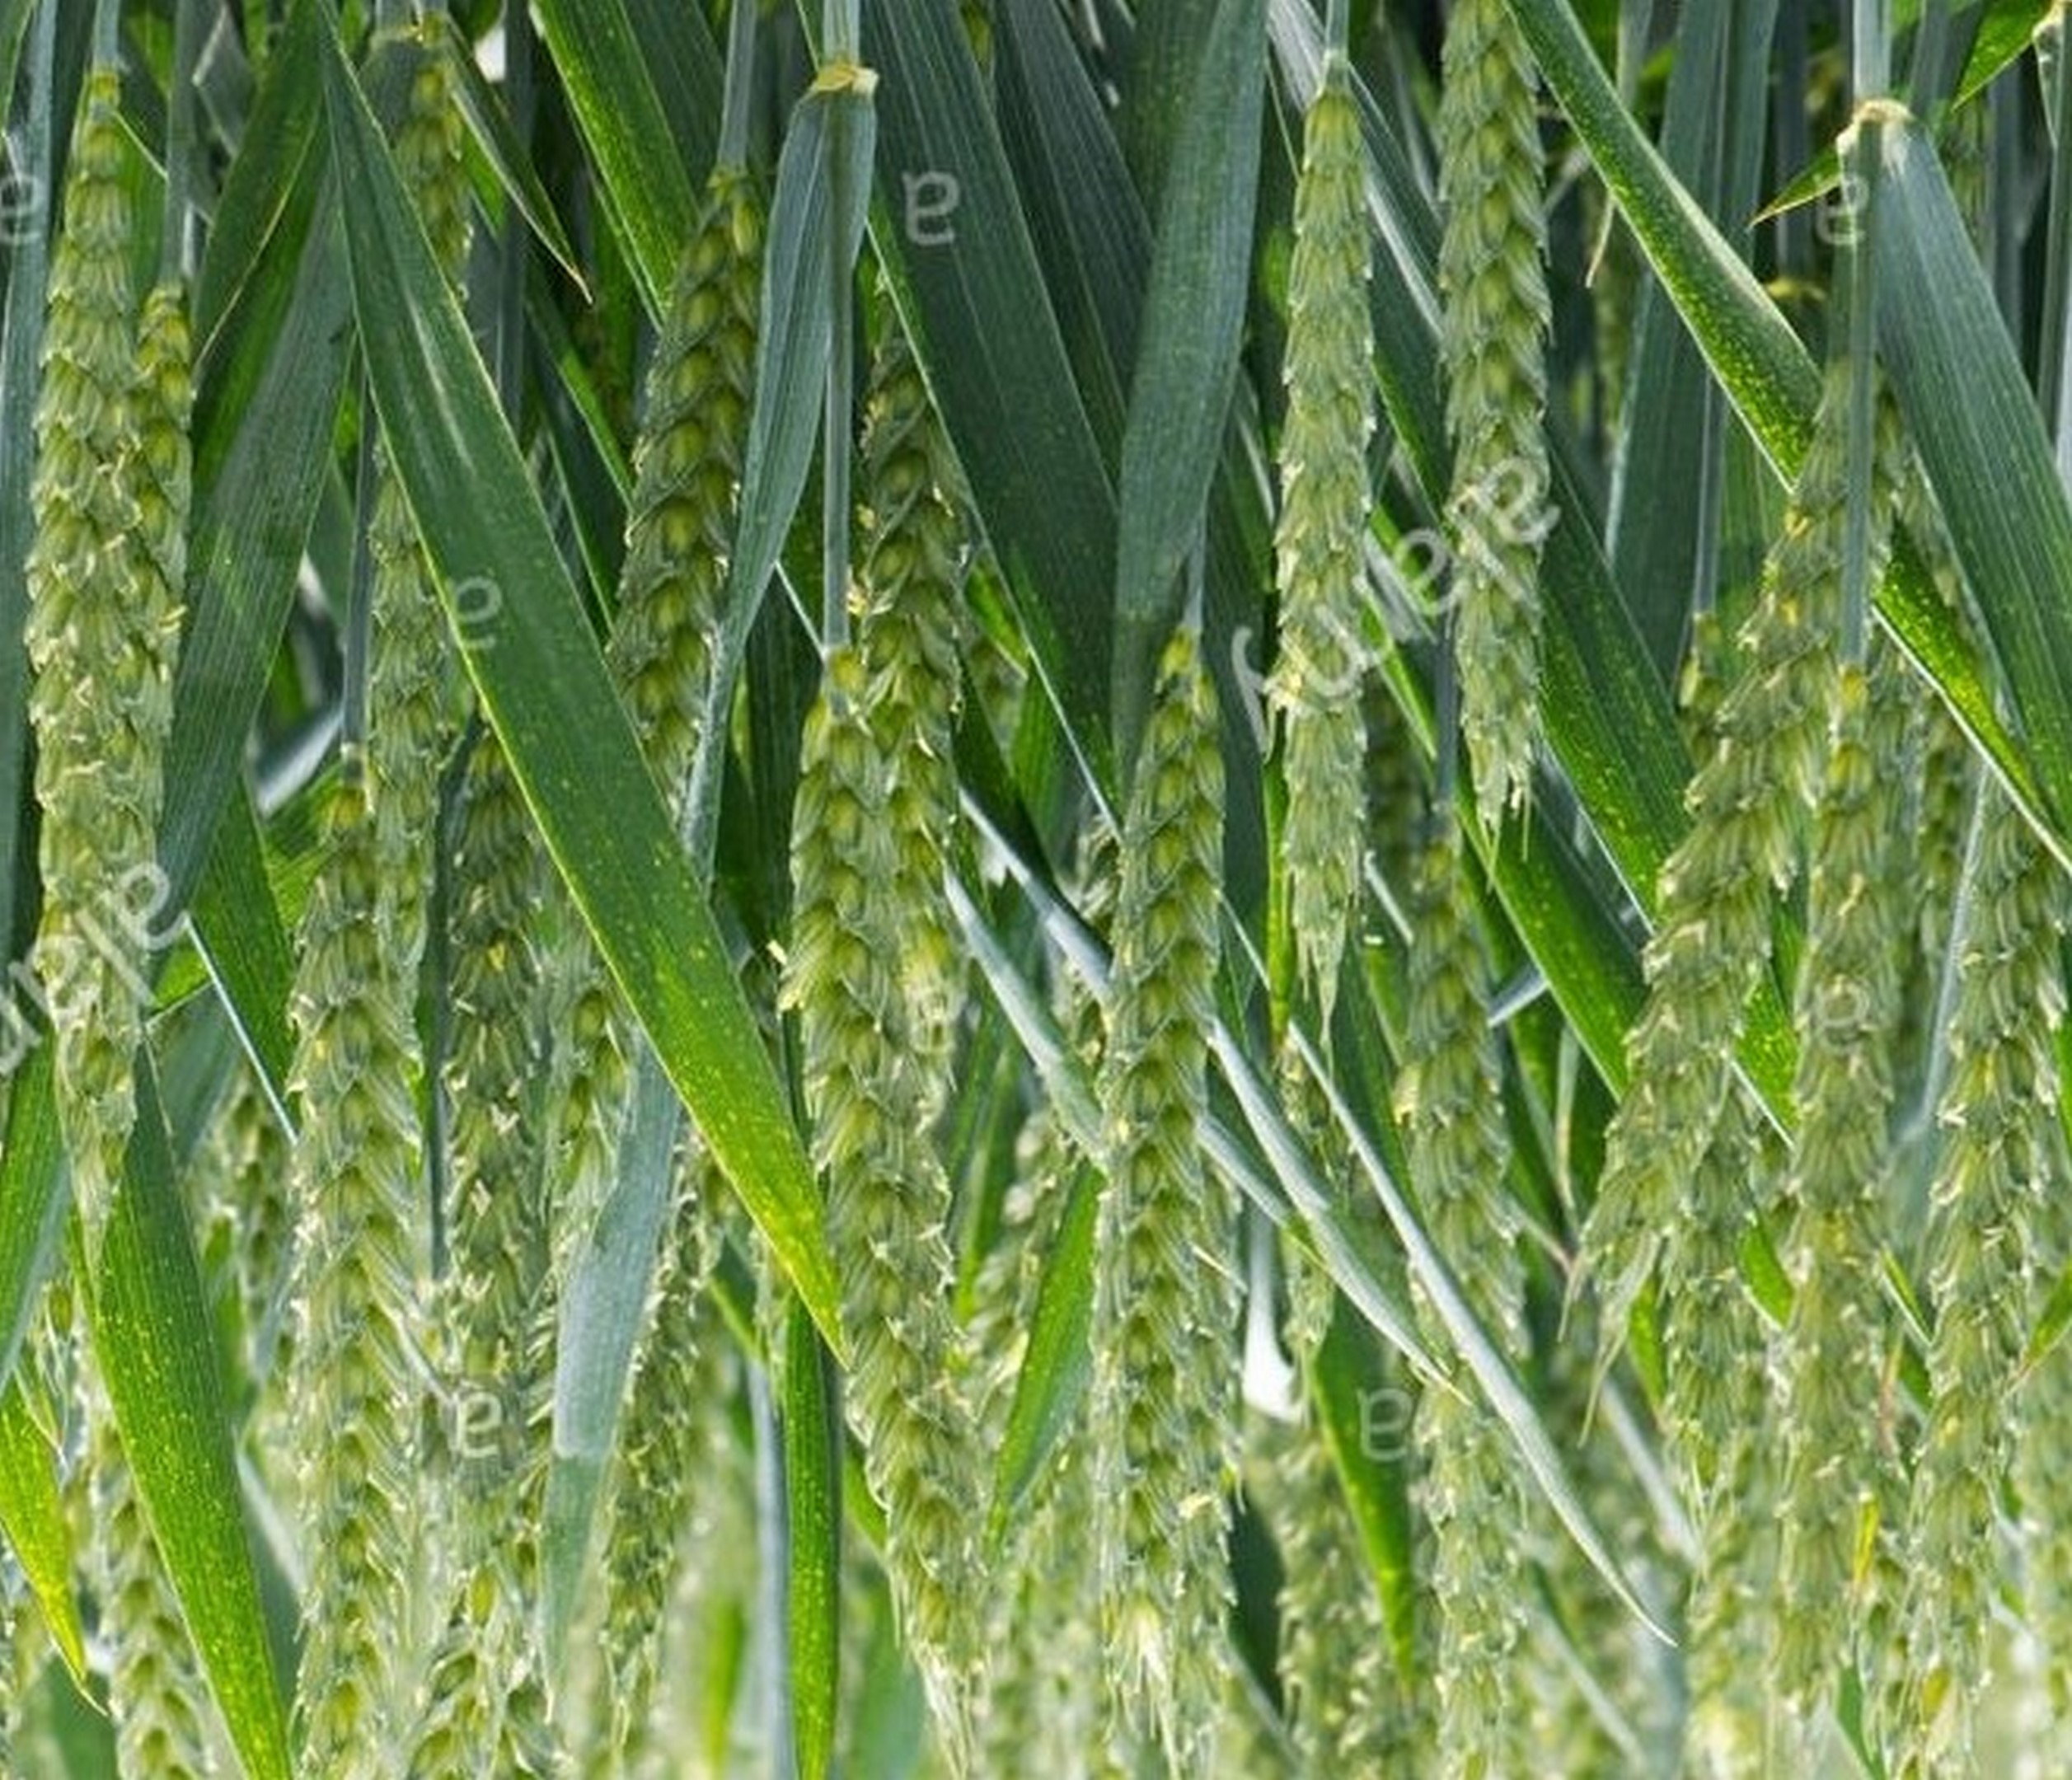Healthy Wheat: (777, 613, 1276, 1687), (1743, 760, 2072, 1731)
